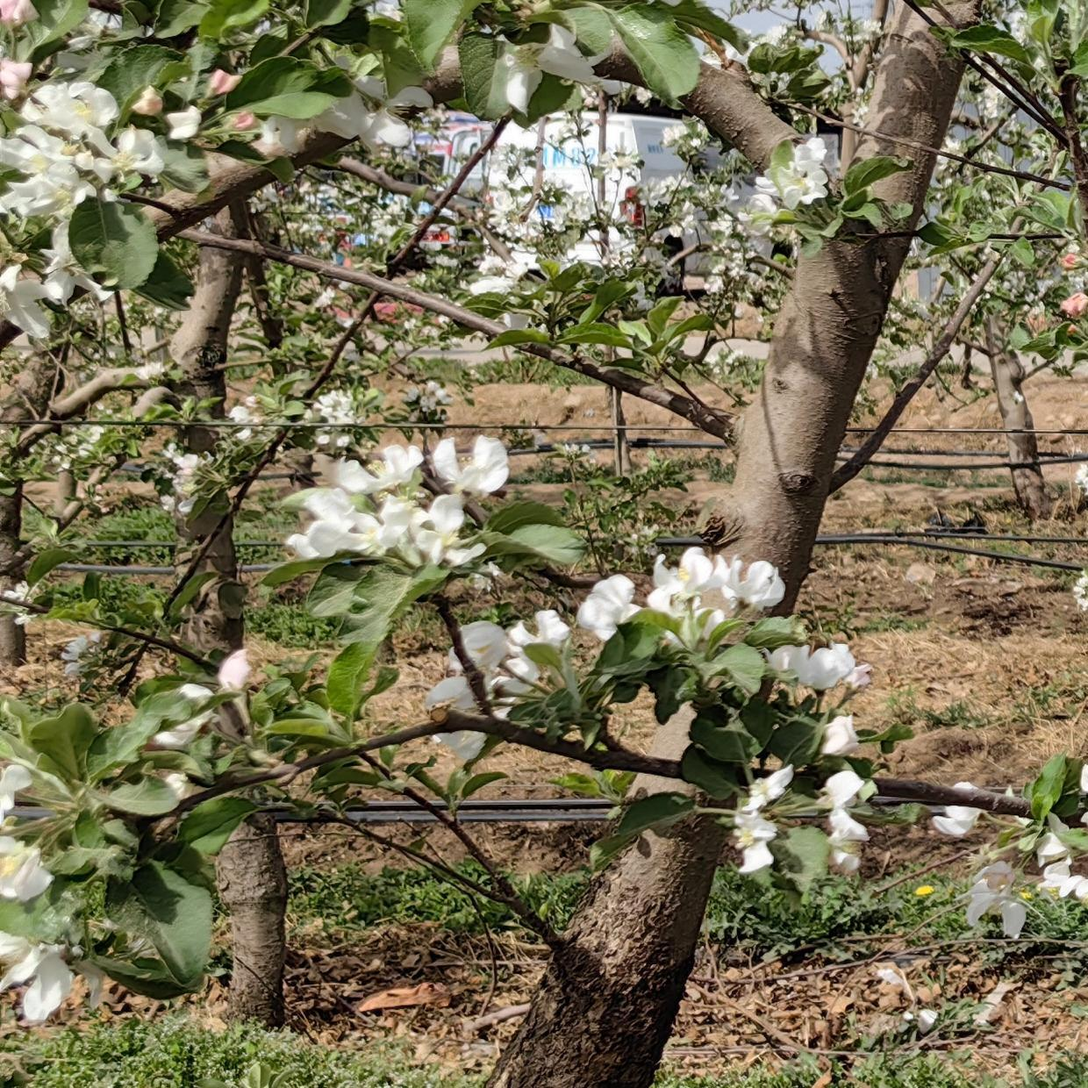apple_flower: (421, 547, 865, 710), (281, 435, 504, 568), (0, 78, 156, 259), (0, 764, 71, 1025), (715, 685, 722, 698)
